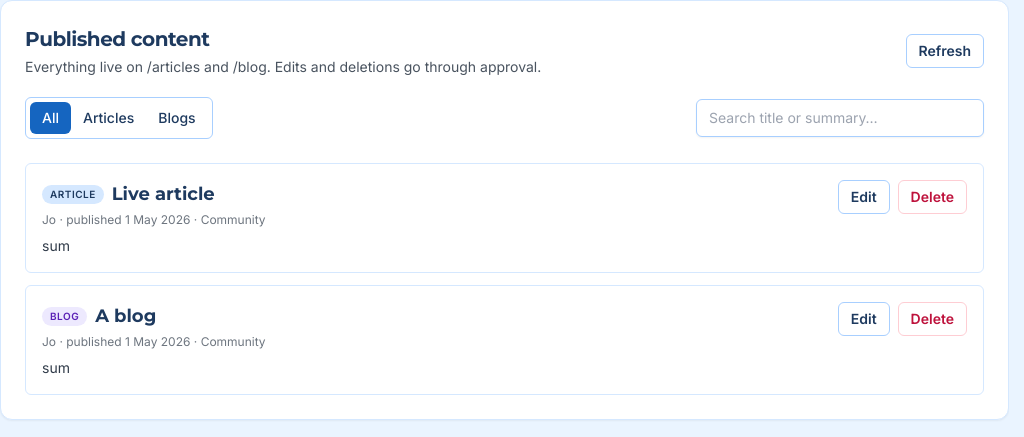
Scenario: PublishedContent › filters by type
Click the button "Blogs": (177, 118) [146, 102, 208, 134]
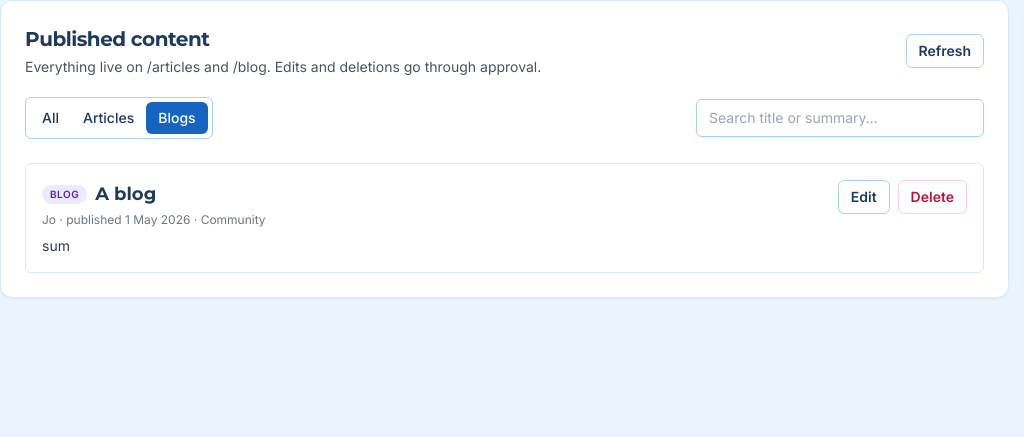
Expected: the text "A blog" is shown, [95, 180, 156, 208]
Expected: the text "Live article" is gone
